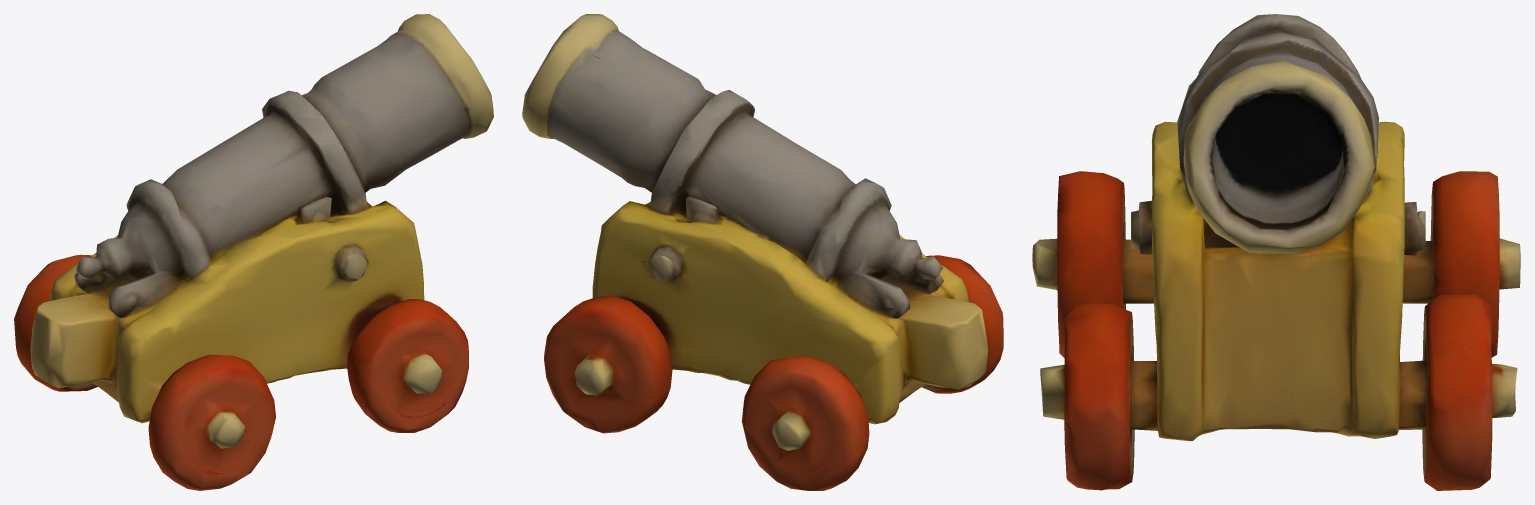
Rendered from cannon.glb.
The picture shows the model from 3 angles, left to right: view 1: azimuth 30°, elevation 25°; view 2: azimuth 150°, elevation 25°; view 3: azimuth 270°, elevation 25°; orthographic projection. The views are drawn at different scales.
Visible parts, largest first — view 1: tripo_node_07d24da5-634e-4b5b-be56-a83dbed5f8dd; view 2: tripo_node_07d24da5-634e-4b5b-be56-a83dbed5f8dd; view 3: tripo_node_07d24da5-634e-4b5b-be56-a83dbed5f8dd.
Part boxes in pixels (left/top/right/bottom): tripo_node_07d24da5-634e-4b5b-be56-a83dbed5f8dd: left=14, top=14, right=493, bottom=490; tripo_node_07d24da5-634e-4b5b-be56-a83dbed5f8dd: left=522, top=14, right=1003, bottom=490; tripo_node_07d24da5-634e-4b5b-be56-a83dbed5f8dd: left=1032, top=14, right=1520, bottom=490.
Bounding box in the file's own units: 1 × 0.7604 × 0.6919.
1 material, 1 textured.
